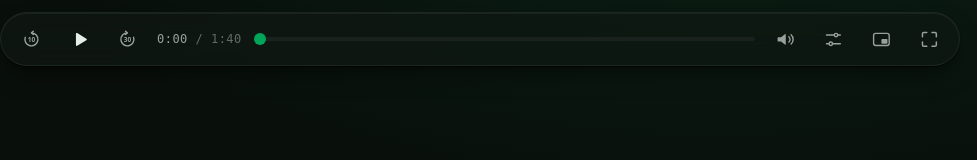
Test: MediaControls › toggles mute on the element
This screenshot has width=977, height=160.
Step 1. Click the button named "Mute" → (785, 39), box 767,21 -> 803,57
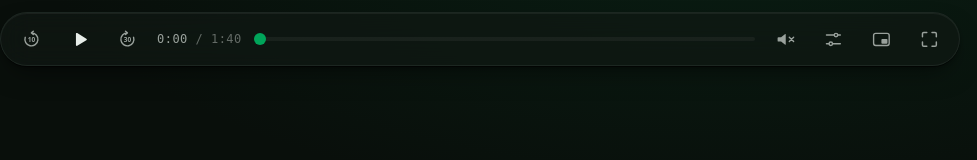
Expected: the button named "Unmute" is shown, 767,21 -> 803,57
